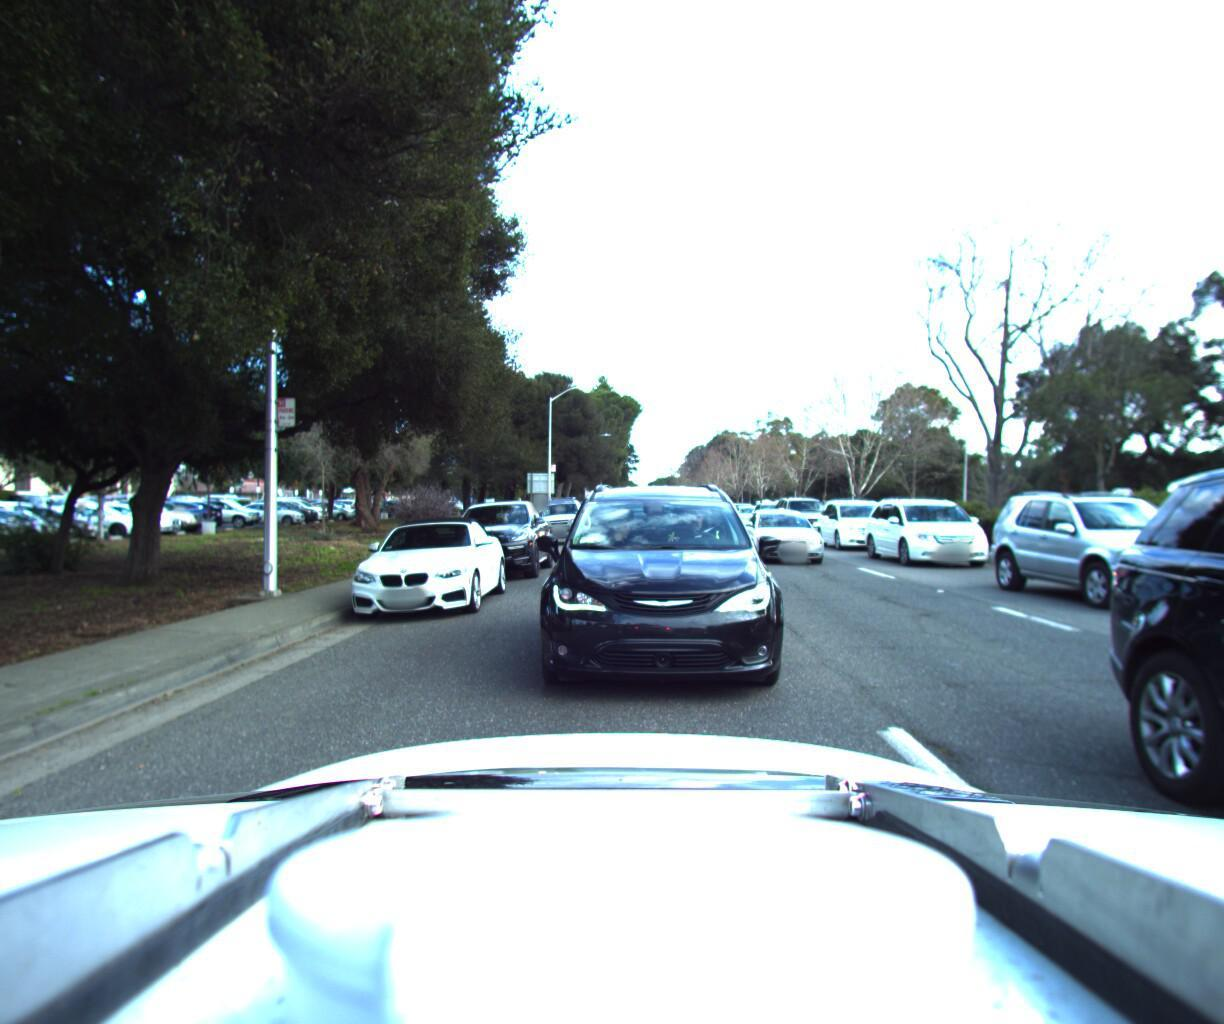car: (1102, 0, 1224, 1024), (529, 463, 797, 708), (978, 485, 1224, 610), (332, 508, 510, 619), (437, 492, 551, 581), (858, 491, 993, 564), (737, 503, 835, 563), (811, 492, 900, 548), (770, 490, 833, 537), (531, 491, 588, 542)
other_vehicle: (1054, 479, 1184, 554)
